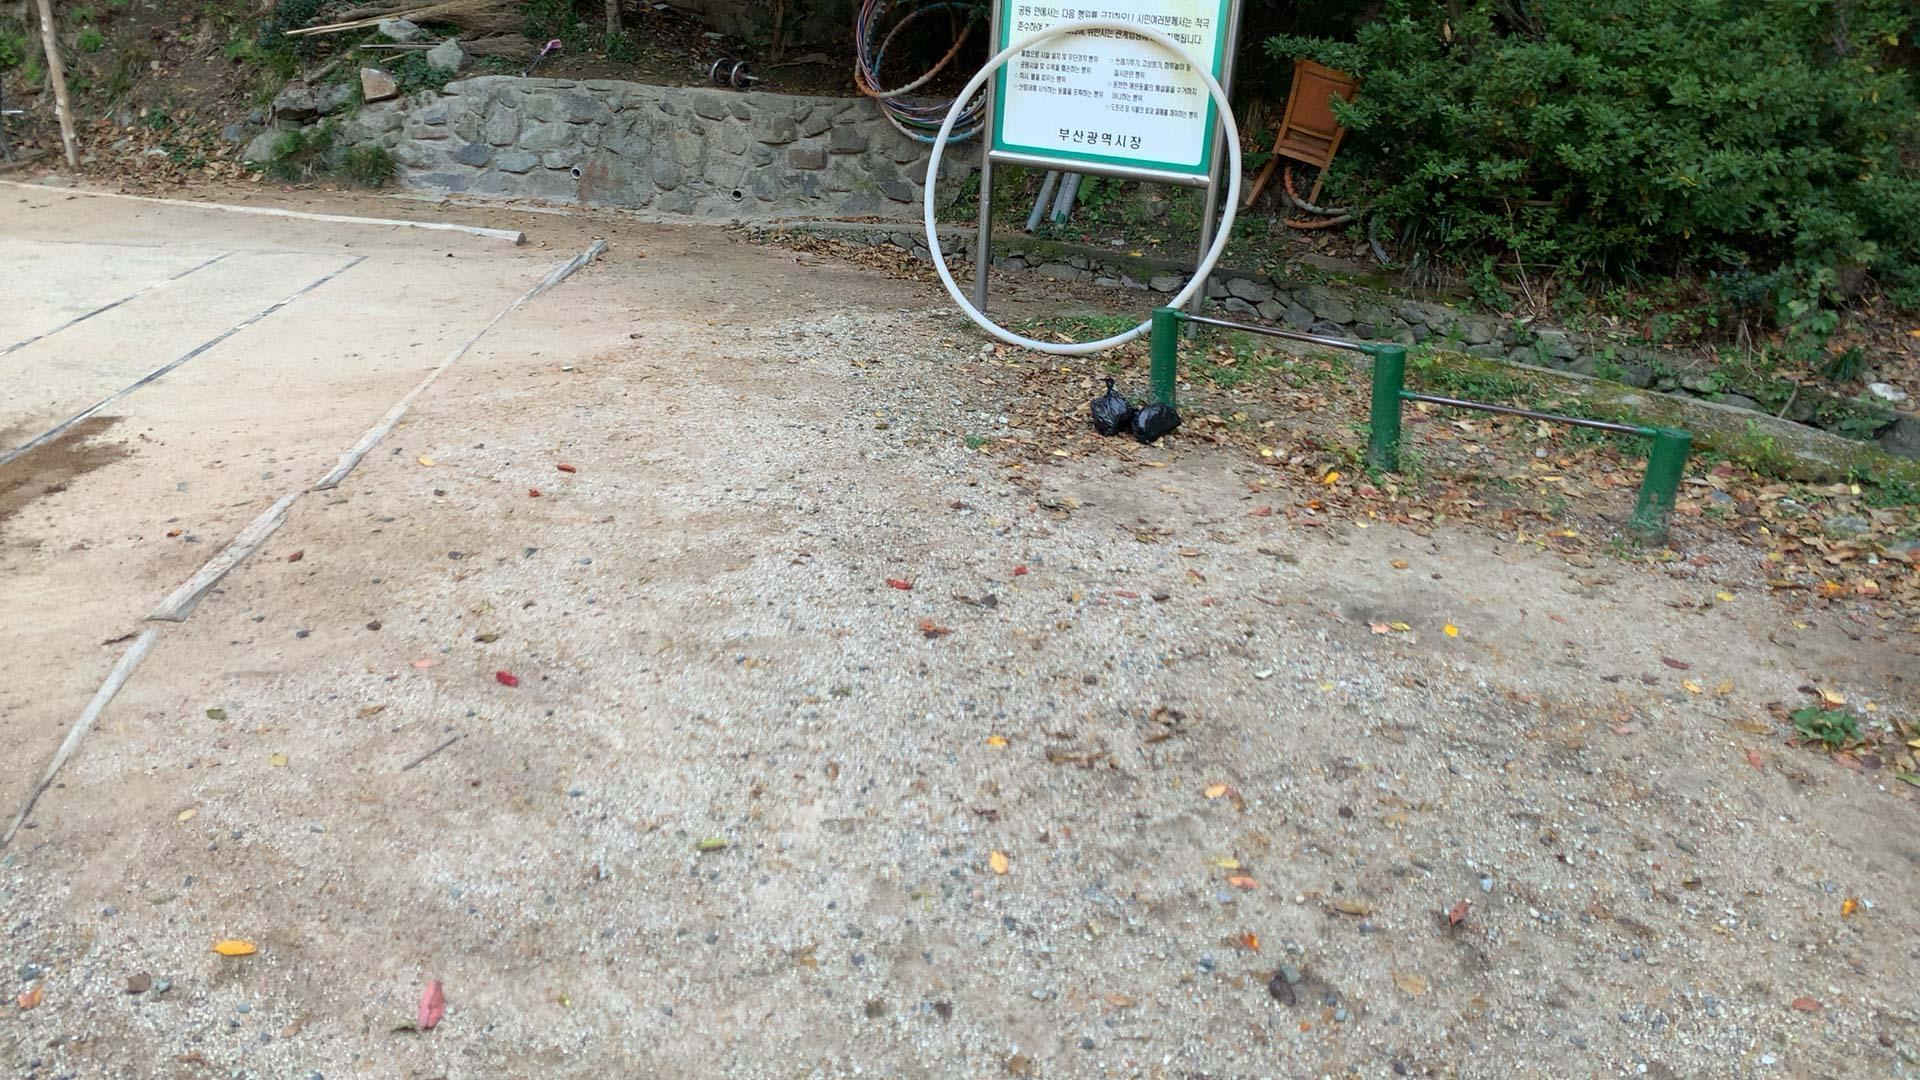black_bag: (1087, 373, 1134, 435), (1131, 400, 1184, 442)
